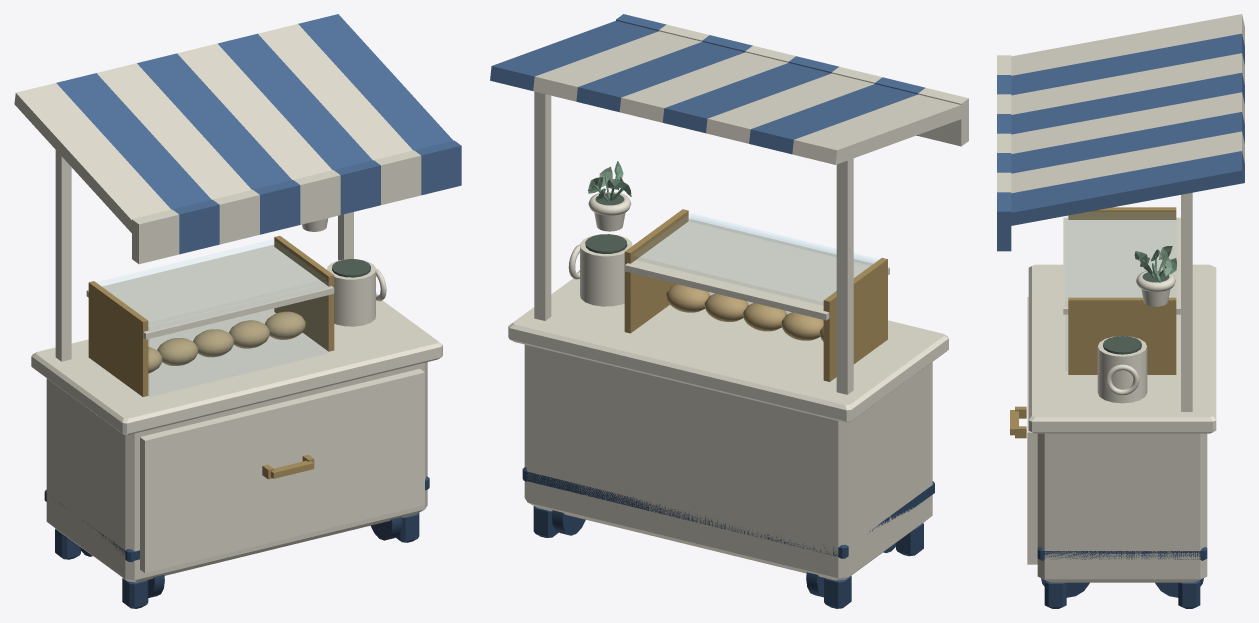
File: v18_pastry_cart.glb
3 renders of one model, left to right at view 1: azimuth 30°, elevation 25°; view 2: azimuth 150°, elevation 25°; view 3: azimuth 270°, elevation 25°, orthographic. The views are drawn at different scales.
Parts seen in each view (by area): view 1: _MeshInstance3D_1978, _MeshInstance3D_1977, _MeshInstance3D_1976, _MeshInstance3D_2000, _MeshInstance3D_1984, _MeshInstance3D_1986, _MeshInstance3D_1988, _MeshInstance3D_1998, _MeshInstance3D_1990, _MeshInstance3D_1992, _MeshInstance3D_1994, _MeshInstance3D_1996 (+19 smaller); view 2: _MeshInstance3D_1976, _MeshInstance3D_1977, _MeshInstance3D_2000, _MeshInstance3D_1984, _MeshInstance3D_1982, _MeshInstance3D_2001, _MeshInstance3D_1983, _MeshInstance3D_1992, _MeshInstance3D_1996, _MeshInstance3D_1988, _MeshInstance3D_1990, _MeshInstance3D_1998 (+12 smaller); view 3: _MeshInstance3D_1976, _MeshInstance3D_1977, _MeshInstance3D_2000, _MeshInstance3D_1998, _MeshInstance3D_2002, _MeshInstance3D_1986, _MeshInstance3D_1996, _MeshInstance3D_1988, _MeshInstance3D_1990, _MeshInstance3D_1992, _MeshInstance3D_1984, _MeshInstance3D_1994 (+12 smaller).
Part boxes in pixels (x1=…): _MeshInstance3D_1978: x1=140, y1=369, x2=424, y2=573; _MeshInstance3D_1977: x1=31, y1=300, x2=442, y2=434; _MeshInstance3D_1976: x1=46, y1=362, x2=427, y2=582; _MeshInstance3D_2000: x1=86, y1=244, x2=334, y2=339; _MeshInstance3D_1984: x1=14, y1=83, x2=170, y2=237; _MeshInstance3D_1986: x1=56, y1=73, x2=211, y2=209; _MeshInstance3D_1988: x1=97, y1=63, x2=251, y2=199; _MeshInstance3D_1998: x1=298, y1=14, x2=453, y2=150; _MeshInstance3D_1990: x1=137, y1=53, x2=291, y2=189; _MeshInstance3D_1992: x1=177, y1=43, x2=332, y2=179; _MeshInstance3D_1994: x1=217, y1=33, x2=372, y2=169; _MeshInstance3D_1996: x1=258, y1=24, x2=412, y2=160; _MeshInstance3D_1976: x1=524, y1=344, x2=932, y2=580; _MeshInstance3D_1977: x1=508, y1=278, x2=948, y2=422; _MeshInstance3D_2000: x1=625, y1=218, x2=889, y2=320; _MeshInstance3D_1984: x1=792, y1=94, x2=966, y2=164; _MeshInstance3D_1982: x1=836, y1=158, x2=853, y2=394; _MeshInstance3D_2001: x1=823, y1=258, x2=887, y2=381; _MeshInstance3D_1983: x1=534, y1=91, x2=551, y2=320; _MeshInstance3D_1992: x1=619, y1=52, x2=787, y2=122; _MeshInstance3D_1996: x1=533, y1=31, x2=701, y2=101; _MeshInstance3D_1988: x1=706, y1=73, x2=873, y2=143; _MeshInstance3D_1990: x1=662, y1=63, x2=831, y2=133; _MeshInstance3D_1998: x1=490, y1=21, x2=658, y2=90; _MeshInstance3D_1976: x1=1037, y1=433, x2=1207, y2=582; _MeshInstance3D_1977: x1=1028, y1=264, x2=1216, y2=433; _MeshInstance3D_2000: x1=1063, y1=217, x2=1180, y2=314; _MeshInstance3D_1998: x1=1000, y1=151, x2=1244, y2=227; _MeshInstance3D_2002: x1=1068, y1=297, x2=1176, y2=374; _MeshInstance3D_1986: x1=1011, y1=33, x2=1244, y2=95; _MeshInstance3D_1996: x1=1011, y1=131, x2=1244, y2=193; _MeshInstance3D_1988: x1=1011, y1=53, x2=1244, y2=114; _MeshInstance3D_1990: x1=1011, y1=72, x2=1244, y2=134; _MeshInstance3D_1992: x1=1011, y1=92, x2=1244, y2=153; _MeshInstance3D_1984: x1=1011, y1=14, x2=1244, y2=75; _MeshInstance3D_1994: x1=1011, y1=112, x2=1244, y2=173.
Size of the model in its own units: 1.5 by 2 by 1.
